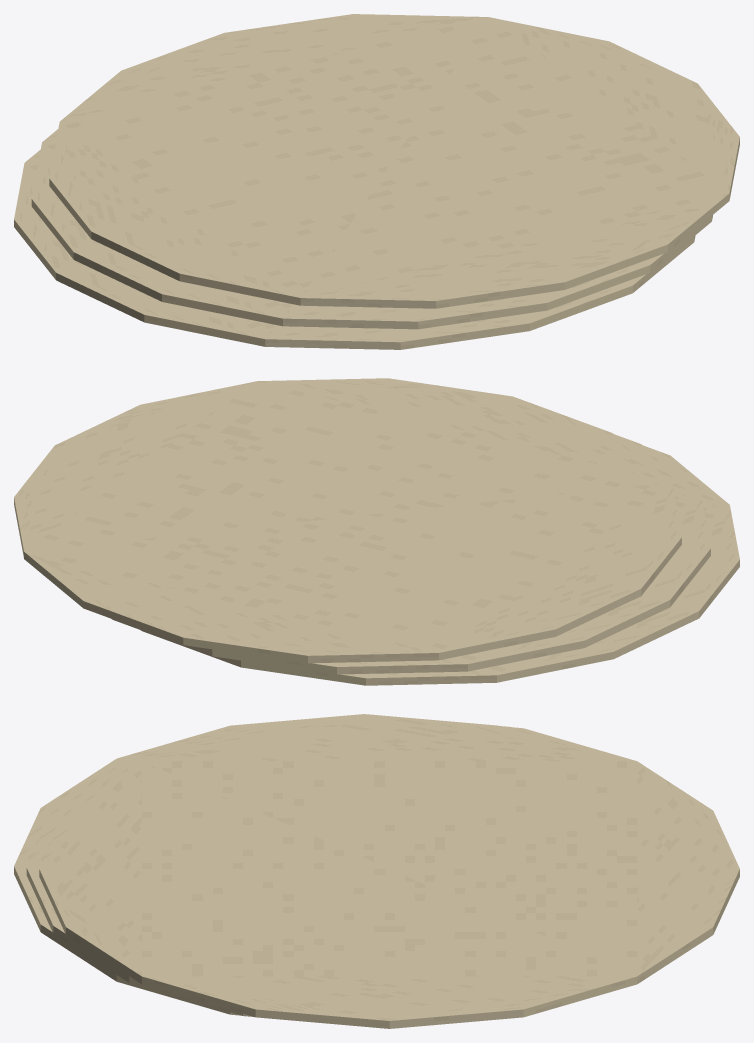
The model's file is filter_paper_qualitative.glb.
3 renders of one model, top to bottom at view 1: azimuth 30°, elevation 25°; view 2: azimuth 150°, elevation 25°; view 3: azimuth 270°, elevation 25°, orthographic. The views are drawn at different scales.
Visible parts, largest first — view 1: block_filter paper sheet (×3); view 2: block_filter paper sheet (×3); view 3: block_filter paper sheet (×3).
Boxes of the visible parts, x1=… form: block_filter paper sheet (×3): x1=14, y1=14, x2=739, y2=349; block_filter paper sheet (×3): x1=14, y1=378, x2=739, y2=685; block_filter paper sheet (×3): x1=14, y1=714, x2=739, y2=1028.
Size of the model in its own units: 0.0556 by 0.0023 by 0.0519.
Materials: 1 (1 with a texture image).
